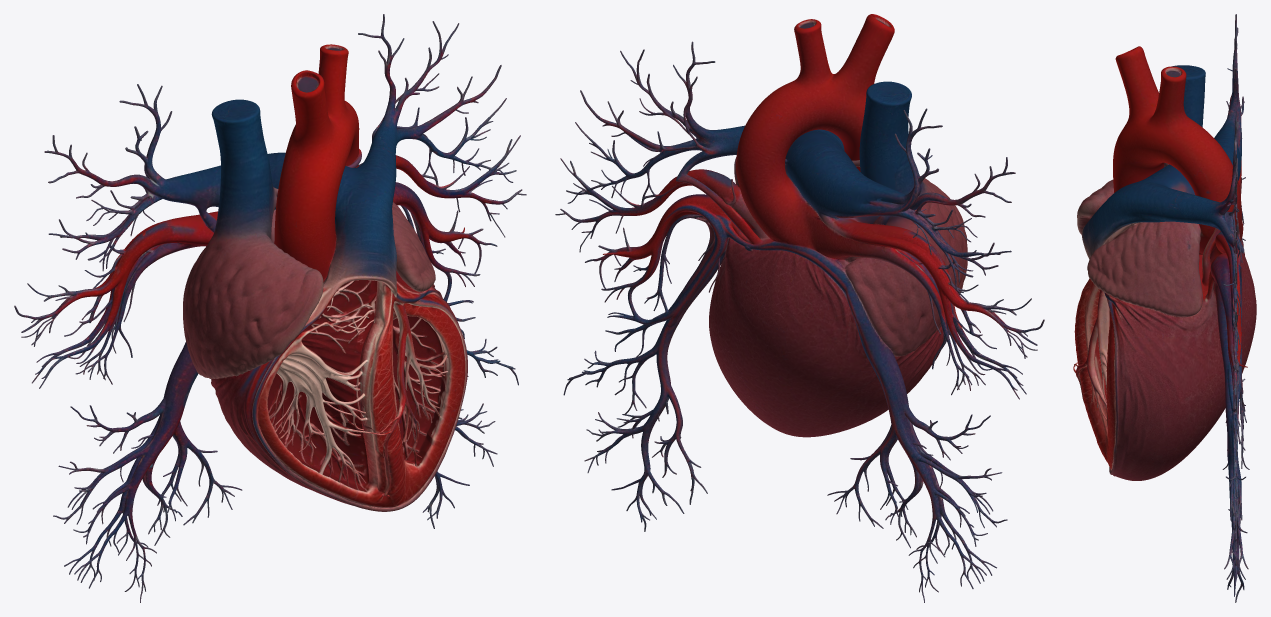
The model's file is heart2.glb.
3 renders of one model, left to right at view 1: azimuth 30°, elevation 25°; view 2: azimuth 150°, elevation 25°; view 3: azimuth 270°, elevation 25°, orthographic. The views are drawn at different scales.
Bounding box in the file's own units: 1.87 × 1.9 × 0.6613.
1 material, 1 textured.
